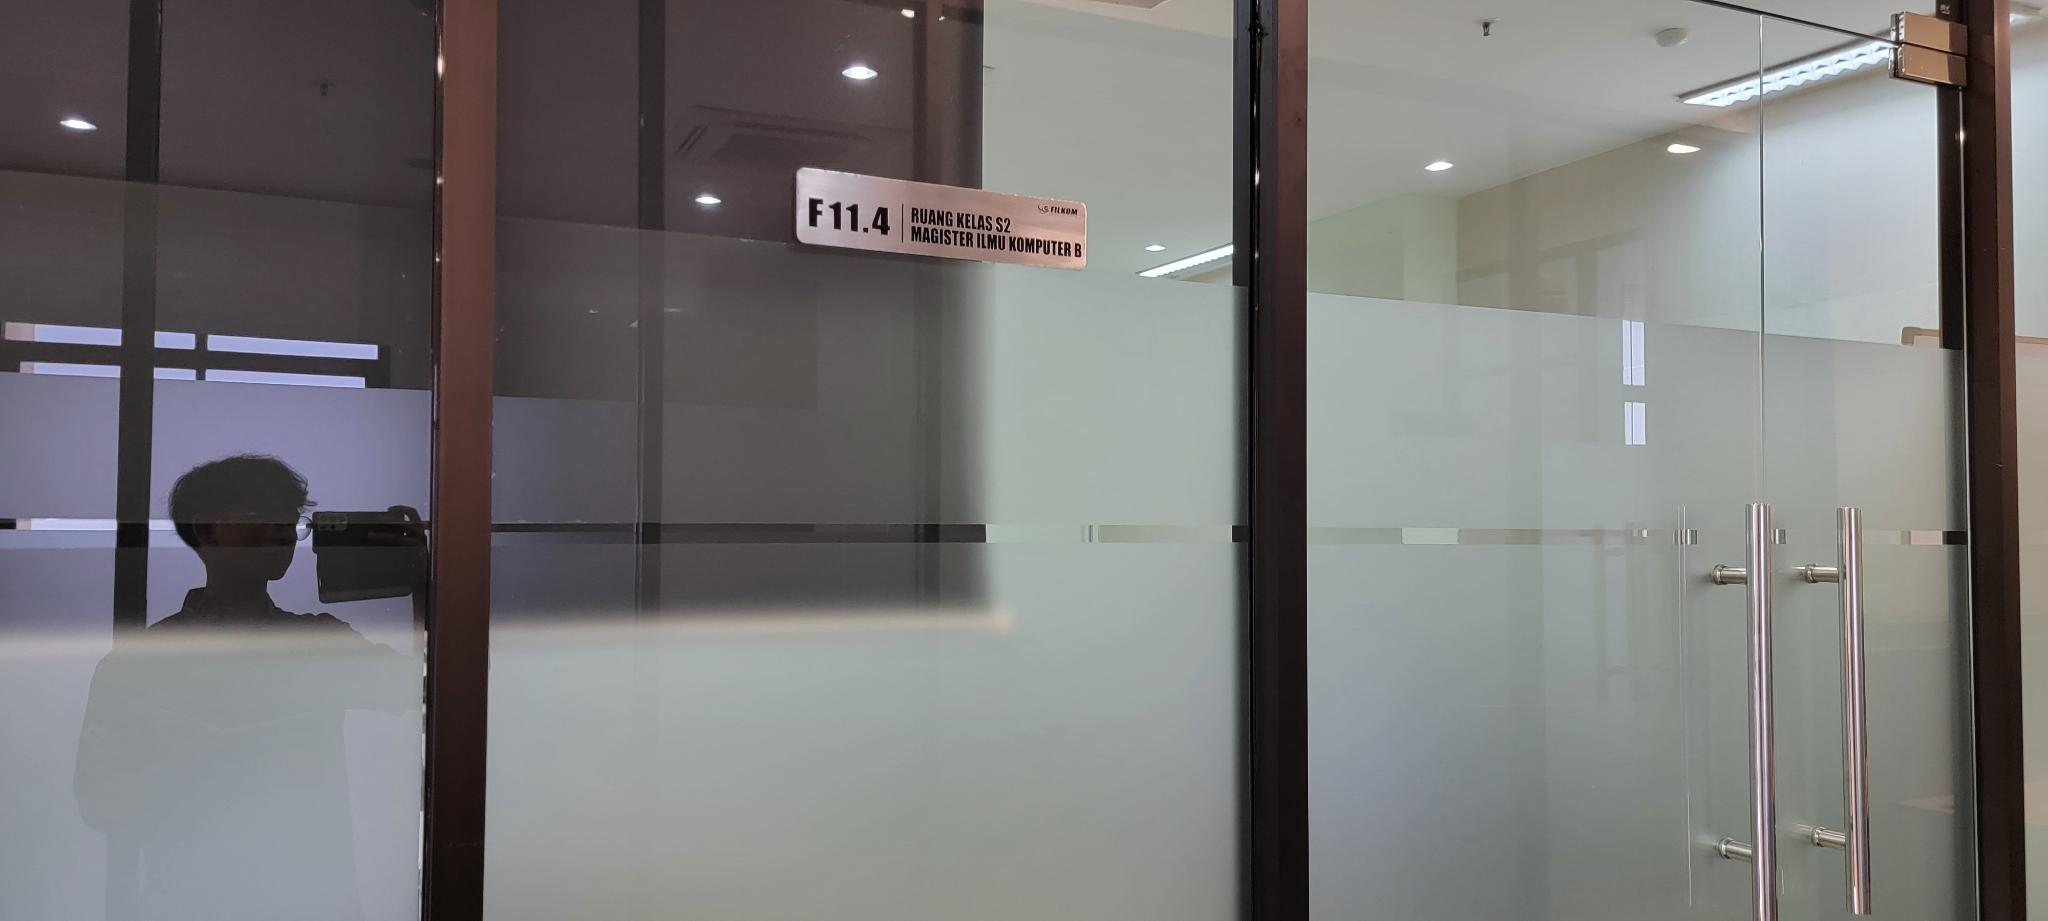plate: (794, 165, 1091, 273)
